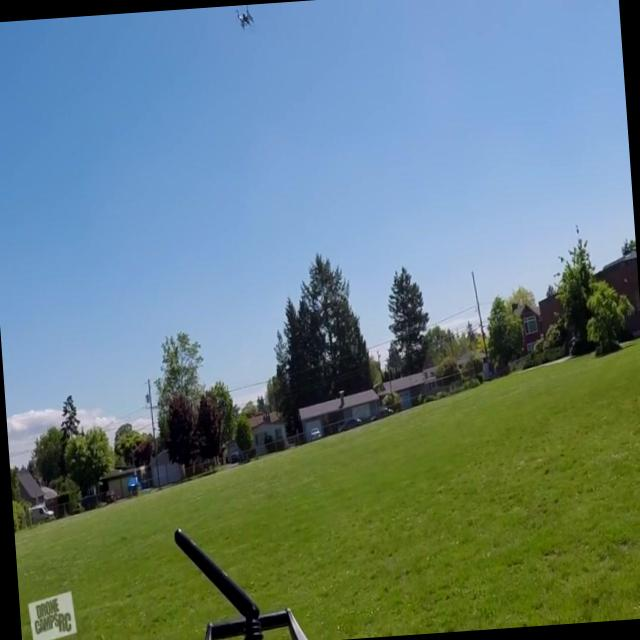drone: (234, 4, 256, 34)
